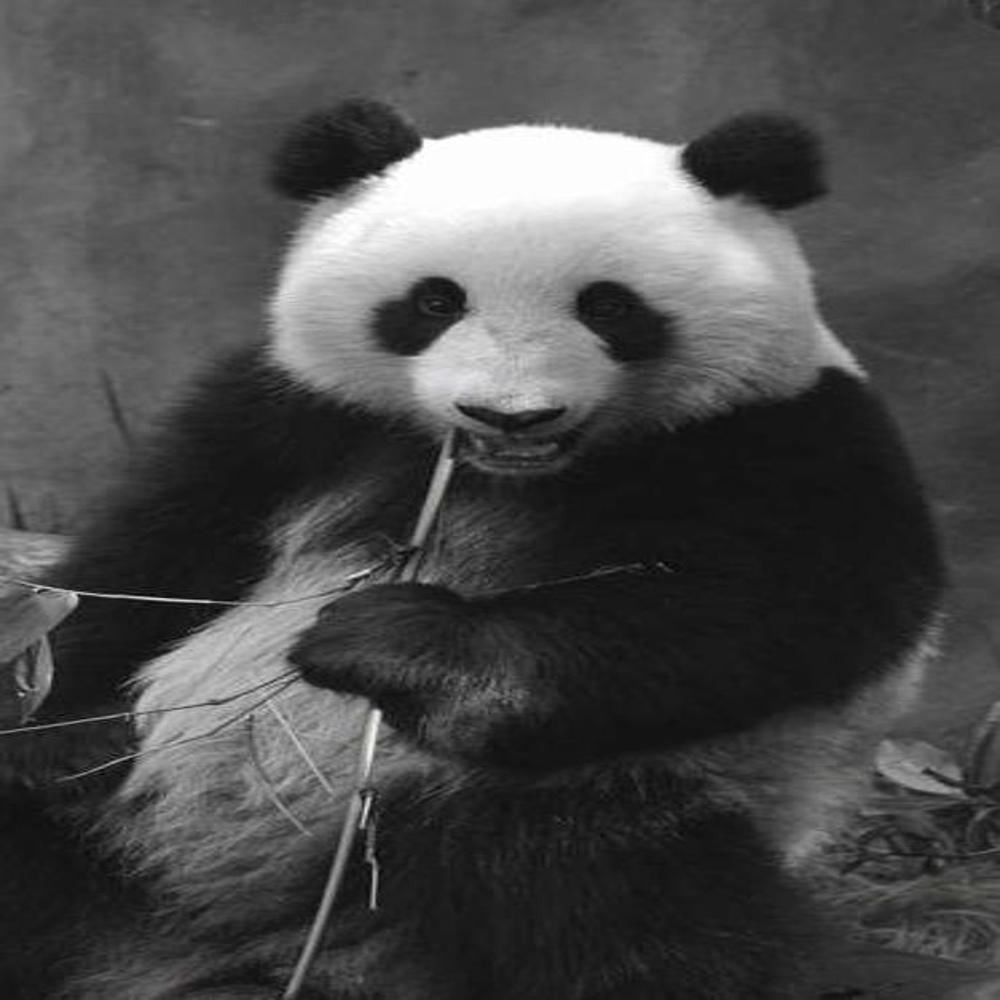panda: (0, 94, 938, 931)
